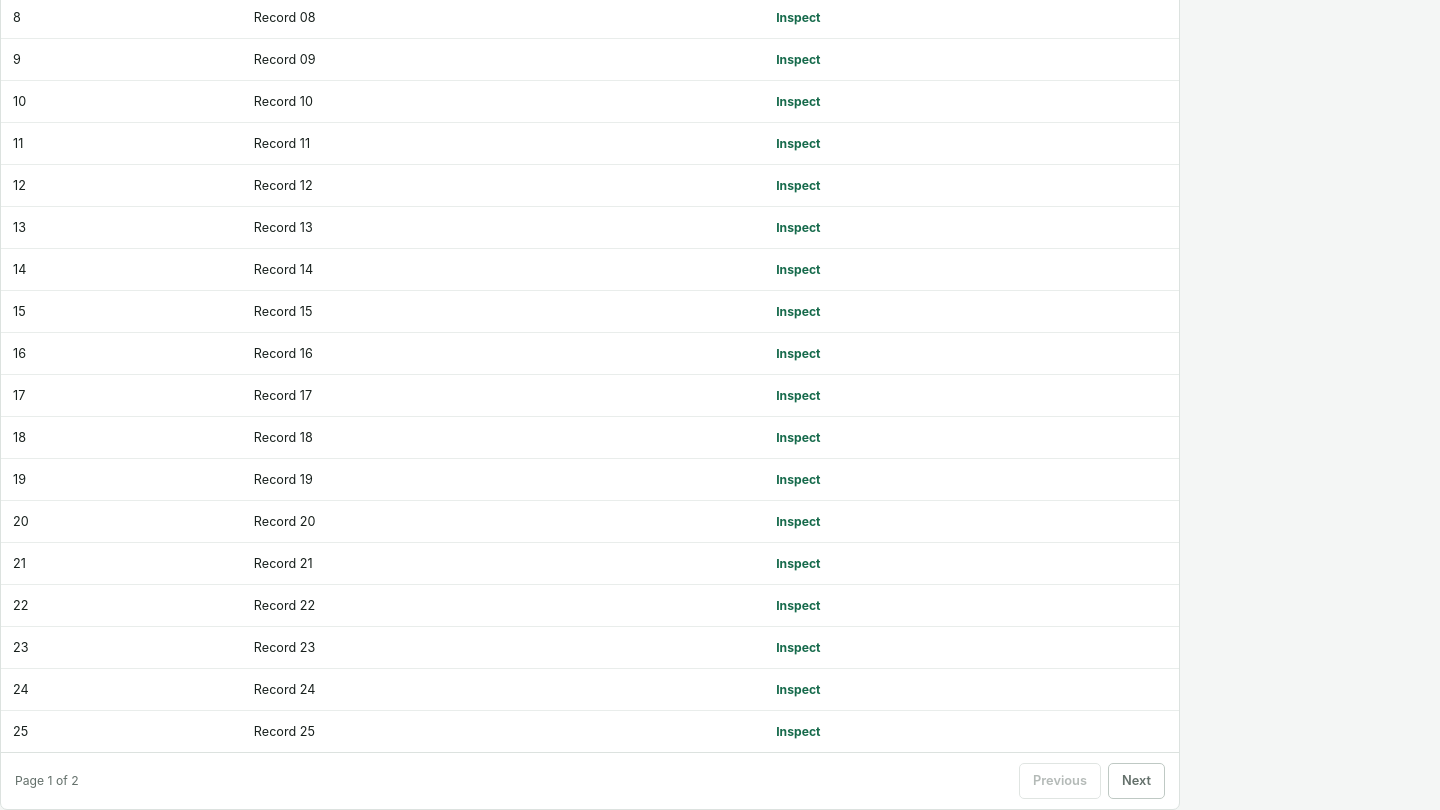
Test: shared explorer components › searches, sorts, pages, and inspects table rows
(page scrolled)
Click the button "Next".
click(1136, 780)  # box x1=1108 y1=762 x2=1165 y2=798
(page scrolled)
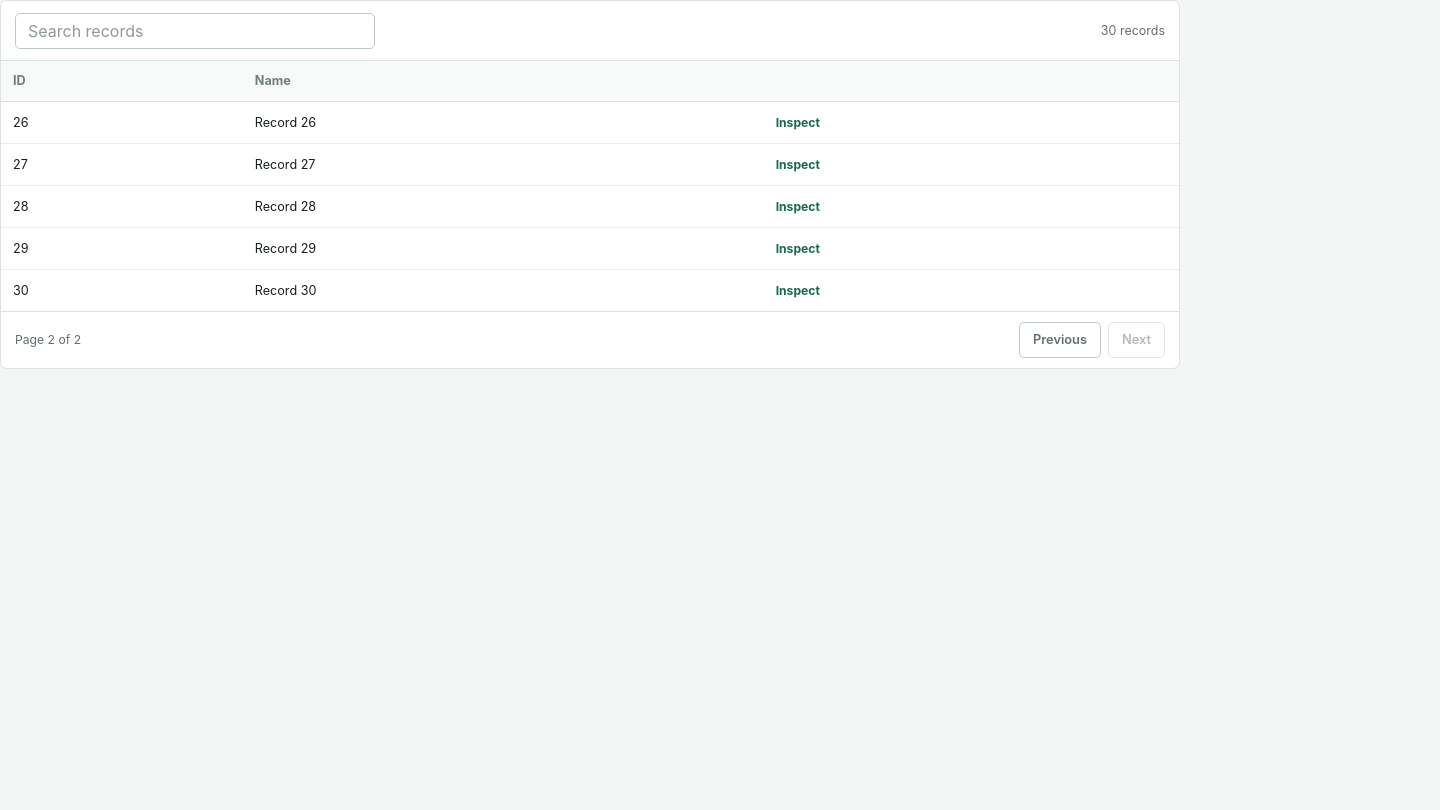
Now the text "Record 30" is shown, box x1=243 y1=269 x2=764 y2=310
Click the button "Previous".
click(1060, 340)  # box x1=1019 y1=322 x2=1101 y2=358
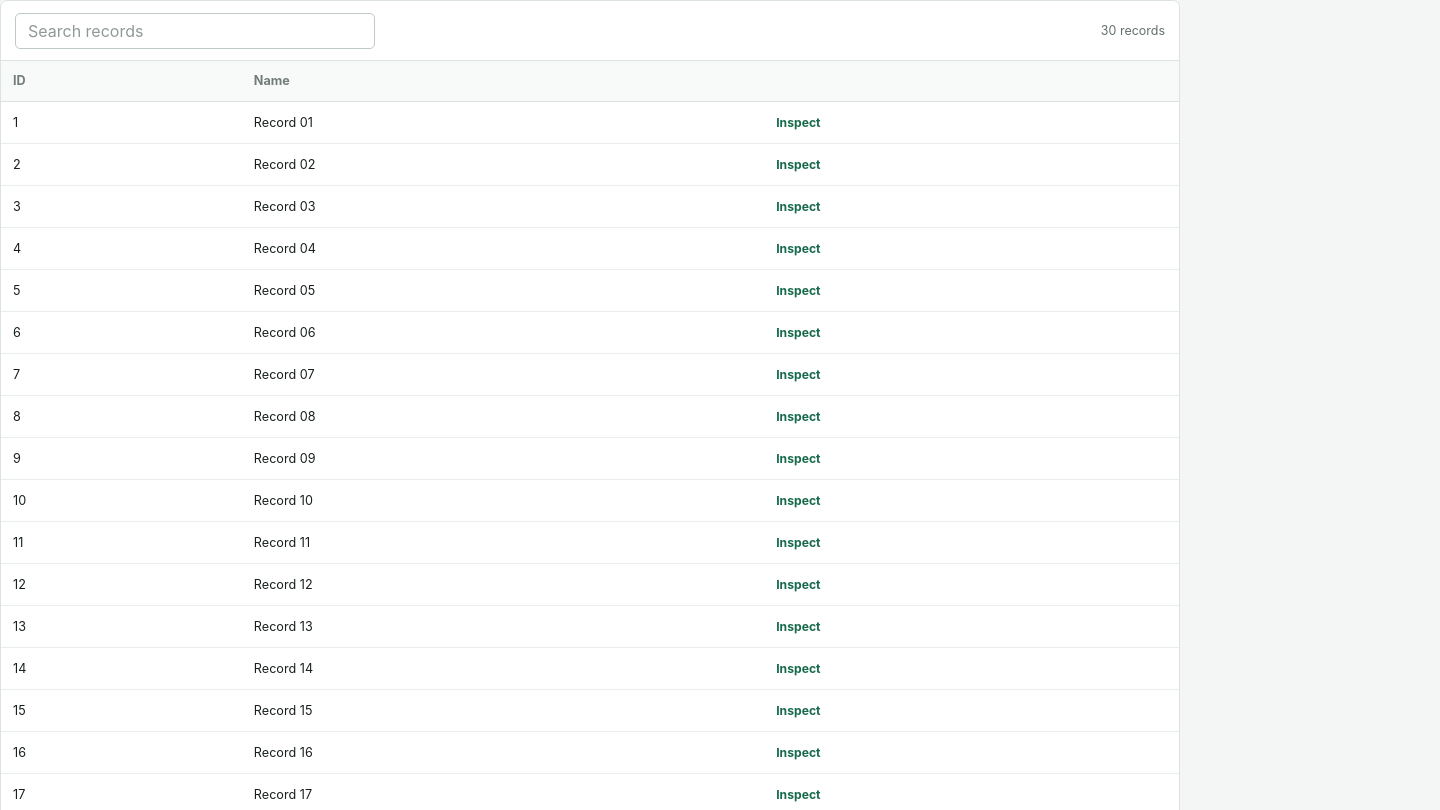
Click the button "Name".
click(272, 81)  # box x1=254 y1=73 x2=290 y2=88
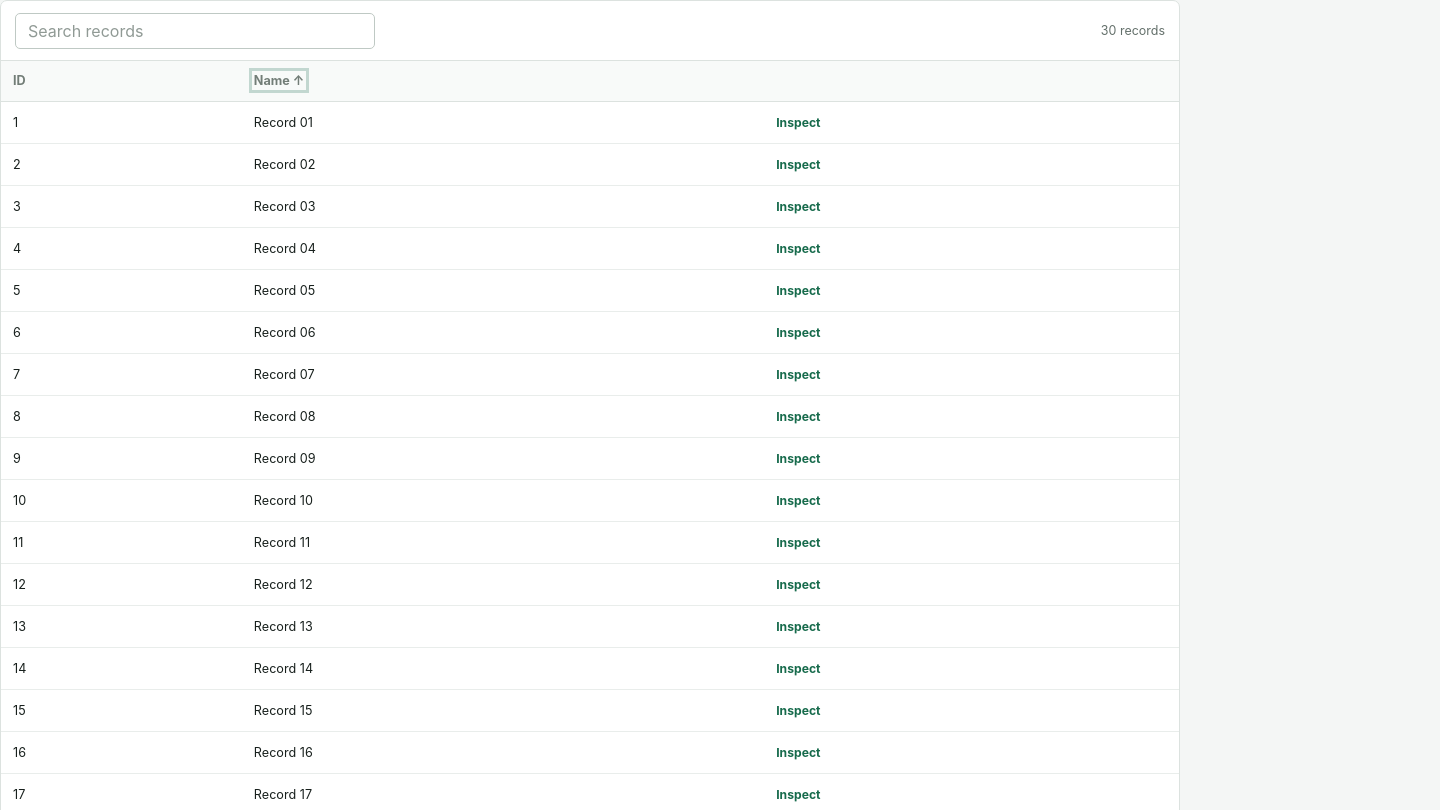
Now the button "Name ↑" is shown, box x1=254 y1=73 x2=304 y2=88
Type "Record 30" into the search field.
click(195, 30); type("Record 30")  # box x1=15 y1=12 x2=375 y2=48
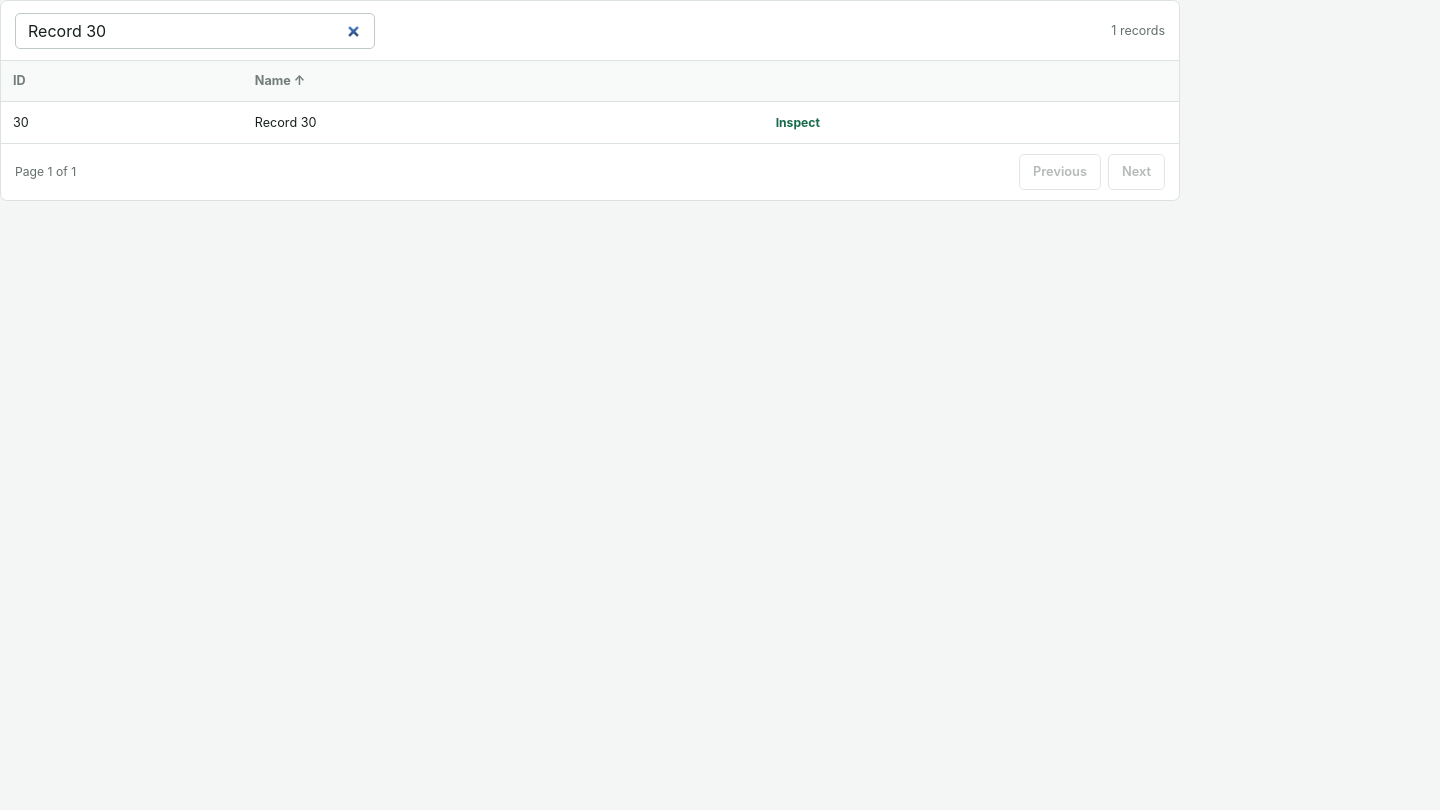
Now the text "1 records" is shown, box x1=1111 y1=23 x2=1165 y2=38
Click the button "Inspect".
click(798, 122)  # box x1=776 y1=112 x2=820 y2=132
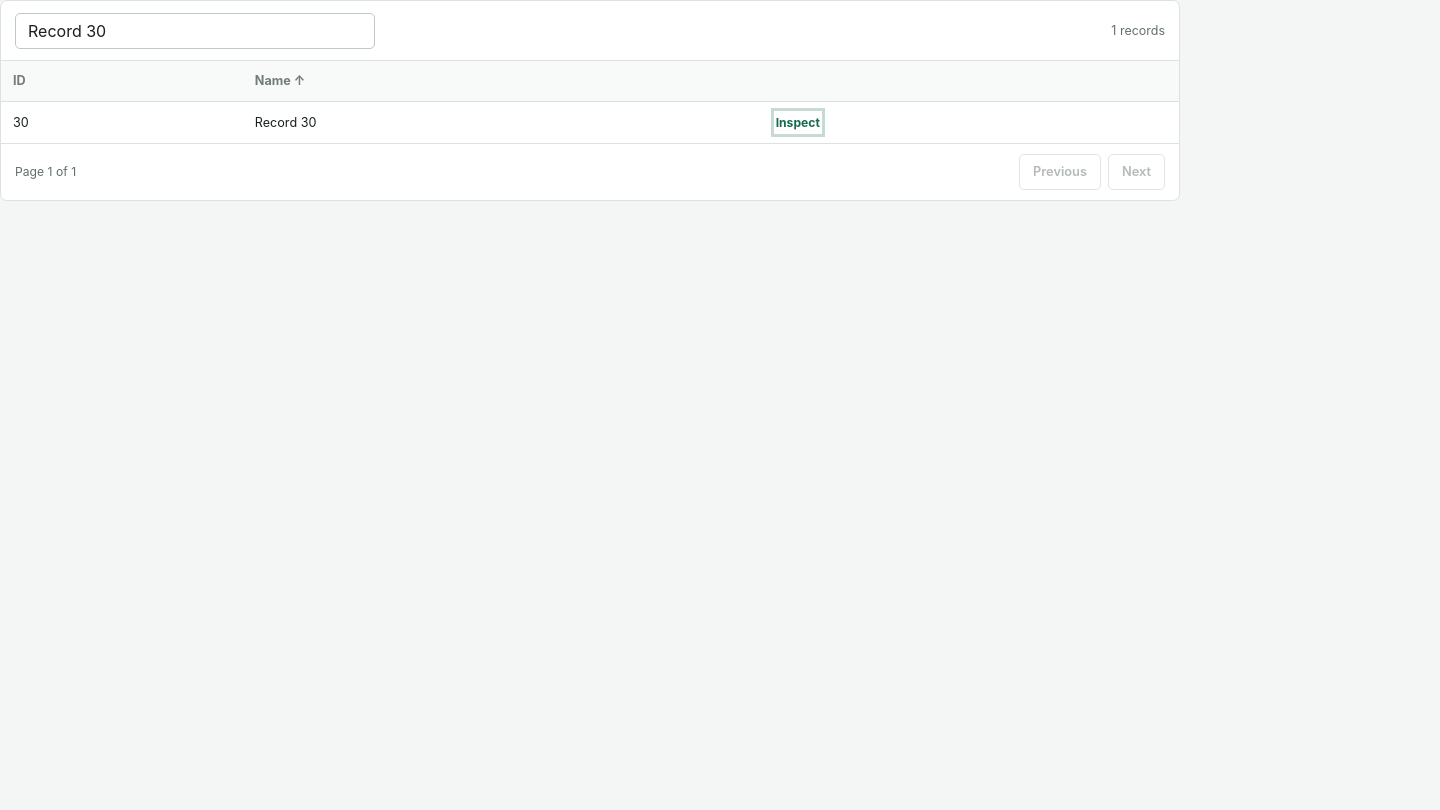
Replace the text in the search field with "missing" at point(195, 30), box x1=15 y1=12 x2=375 y2=48
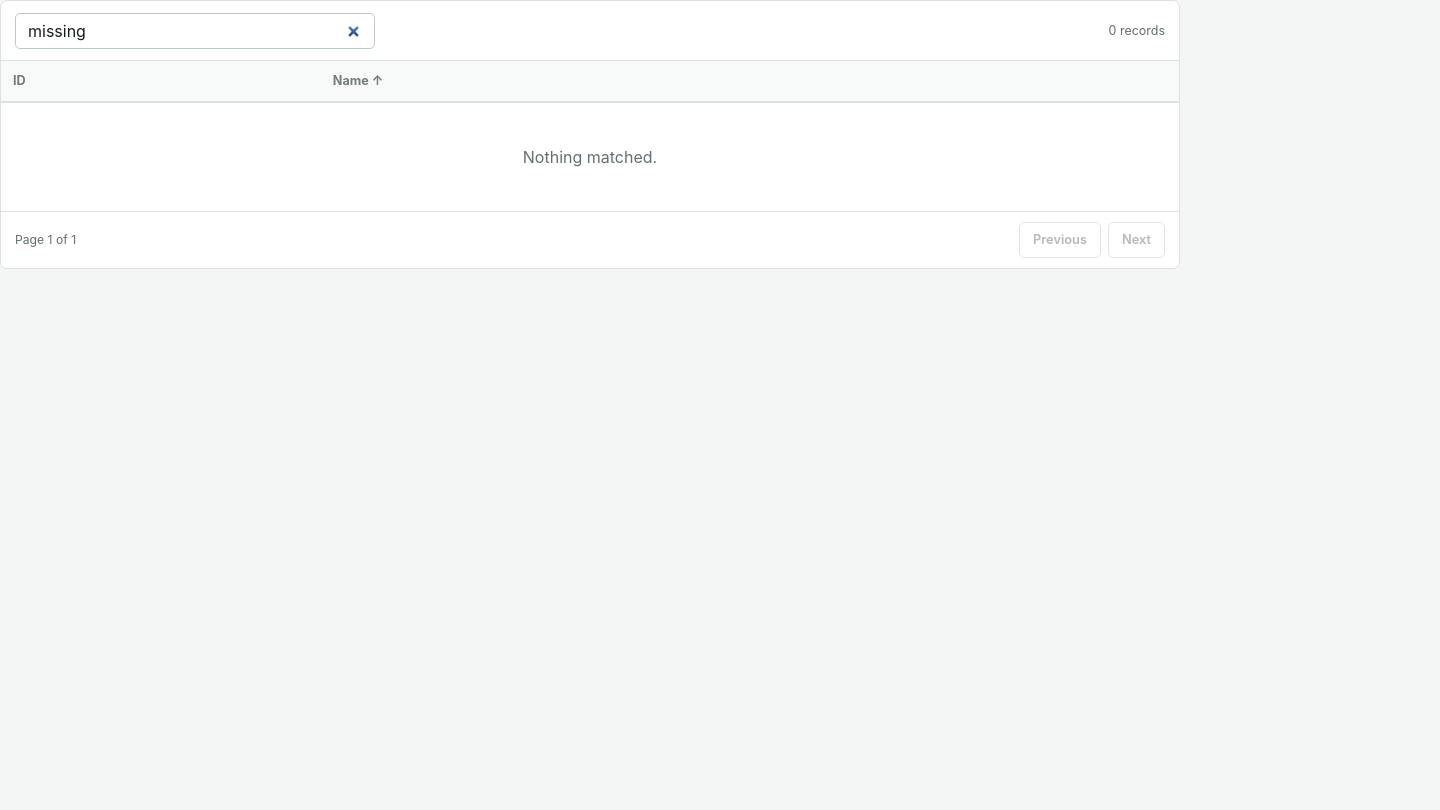
Now the text "Nothing matched." is shown, box x1=1 y1=102 x2=1179 y2=210
